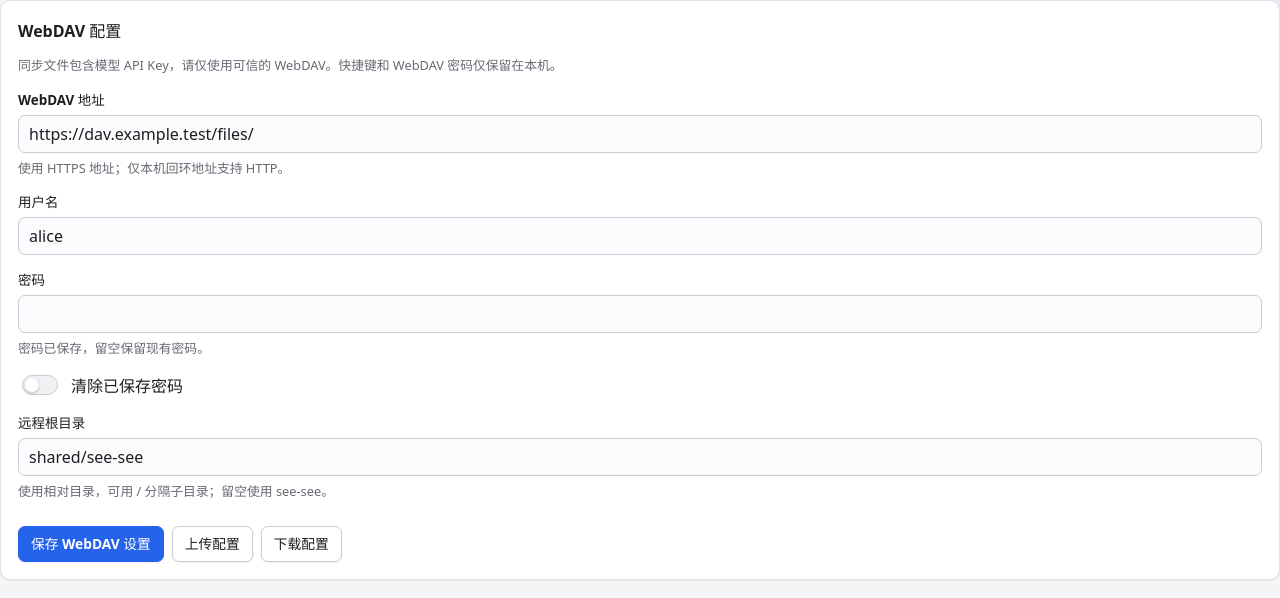
WebdavSettings › loads saved fields without echoing a password and retains it when saving an empty password
Expected: the field labelled "WebDAV 地址" holds "https://dav.example.test/files/", [18,114,1262,152]
Expected: the field labelled "用户名" holds "alice", [18,217,1262,255]
Click the button "保存 WebDAV 设置": click(91, 544) [18,526,164,562]
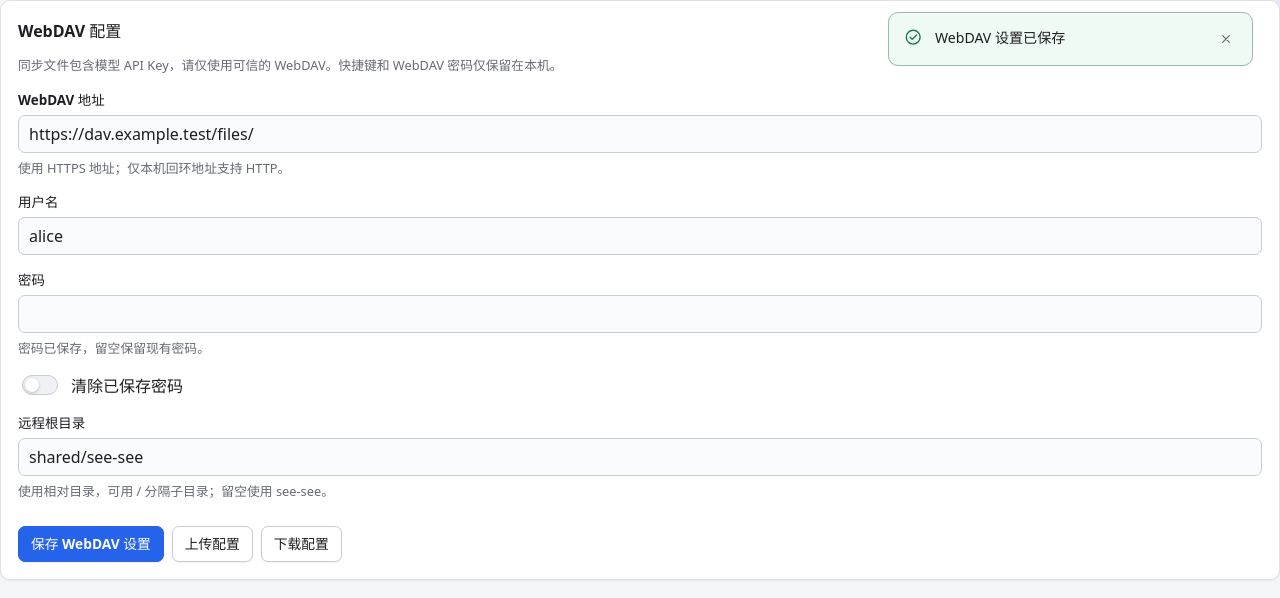
Expected: the message reads "WebDAV 设置已保存", [935,28,1065,47]
